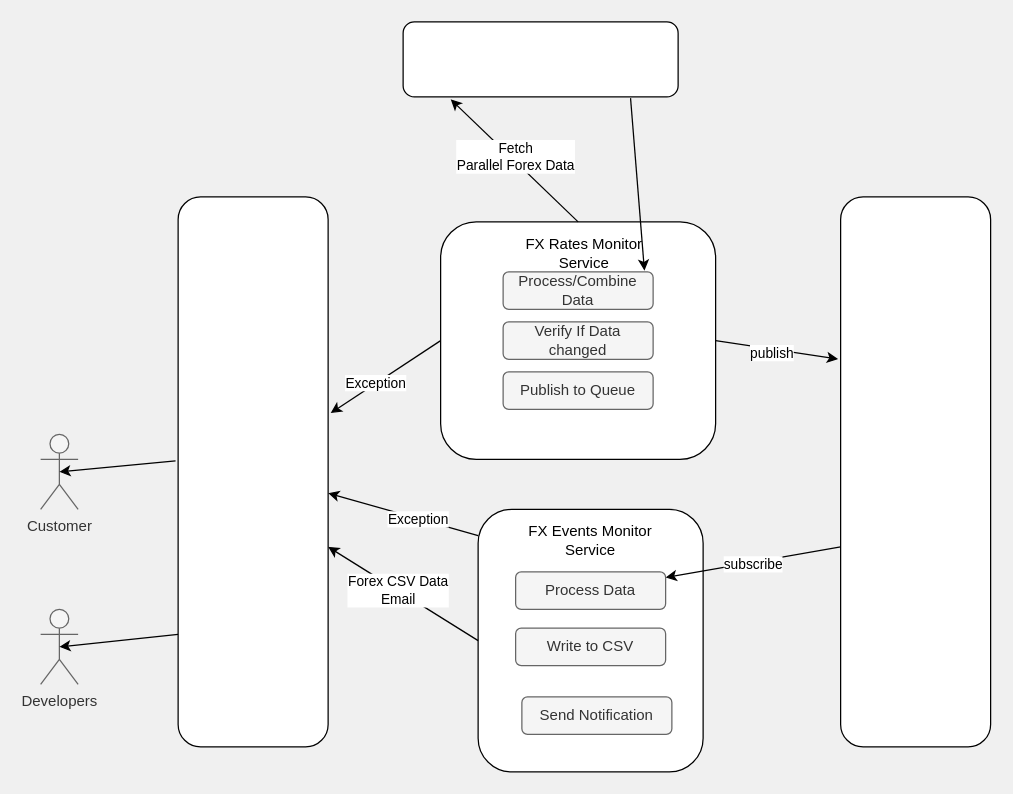
This 1013x794 diagram has some shape labels left out. The shapes that lost their labels are listed below. From the top down, each one's centre as x and y in pixels, then its label:
[540,59]: EHS Historical Data
[252,471]: Notification Service
[915,471]: RabbitMQ
